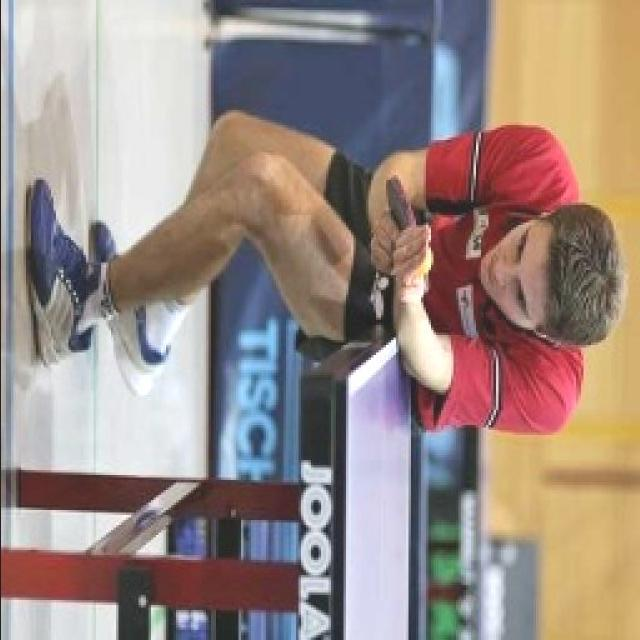oball: (410, 244, 434, 272)
